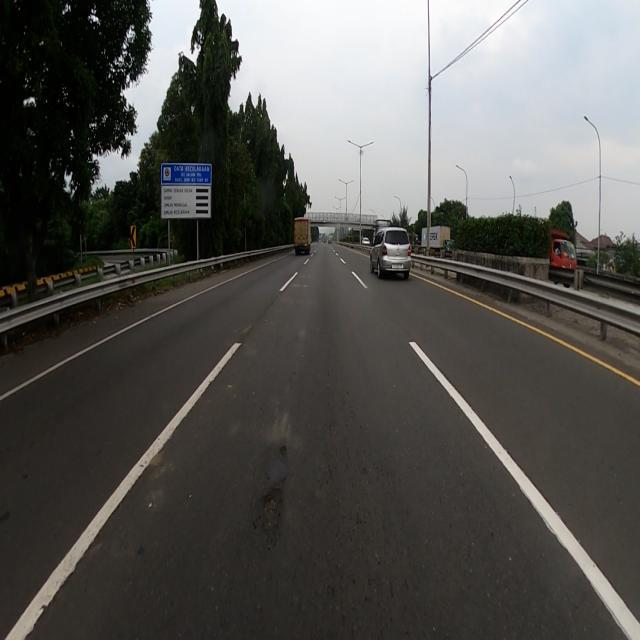Buraco: (255, 486, 285, 533)
